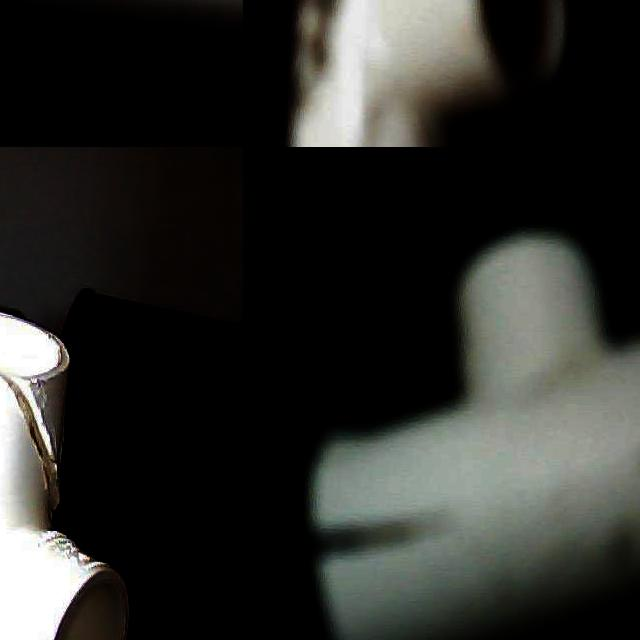Defective: (292, 0, 395, 121), (4, 354, 63, 544), (302, 514, 468, 569)
T Joint: (299, 224, 640, 640), (0, 308, 131, 640), (285, 0, 574, 147)
